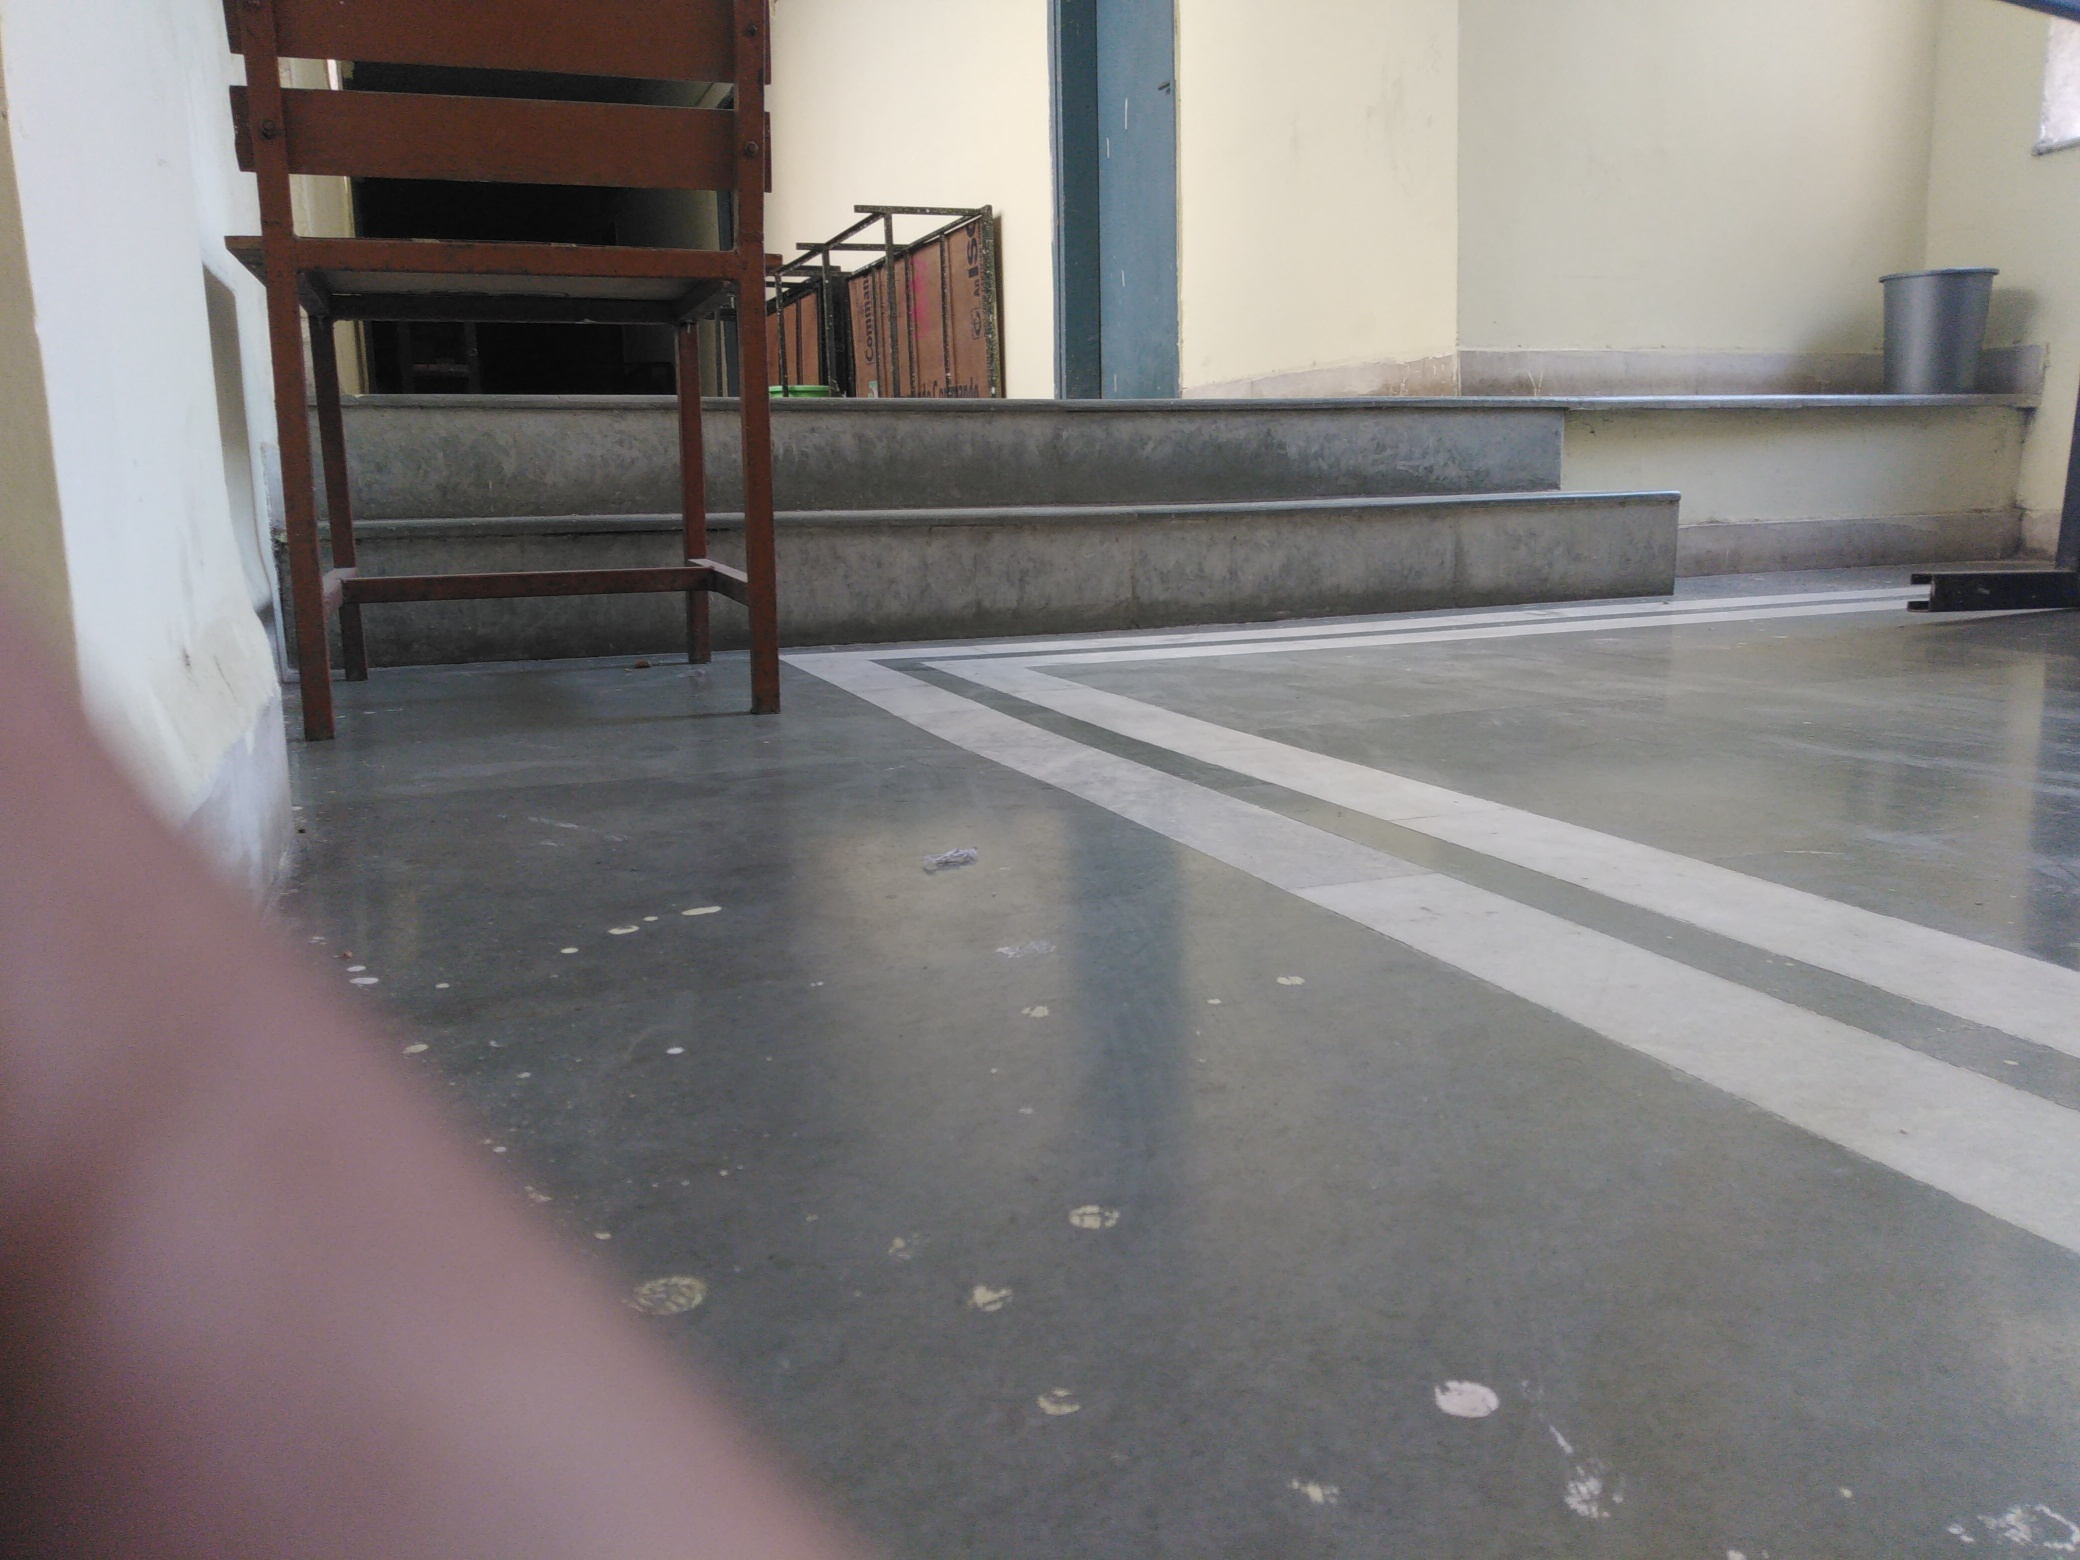stairs_up: (781, 405, 1672, 600)
